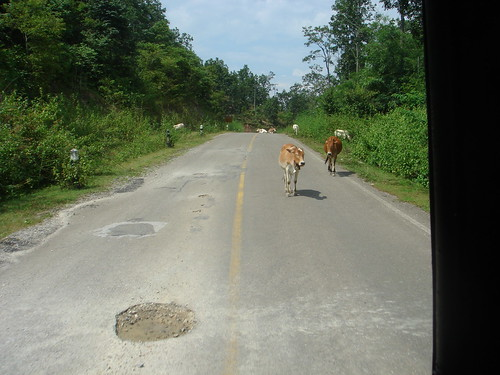animal: (272, 141, 304, 198), (315, 128, 347, 177)
street: (1, 133, 500, 375)
vegetation: (1, 2, 203, 208), (290, 1, 427, 194)
